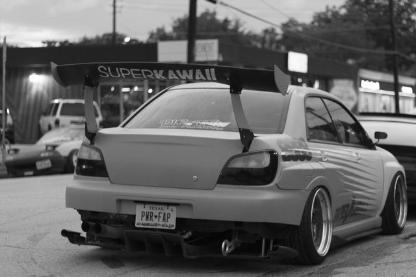license plate: (130, 198, 180, 236)
